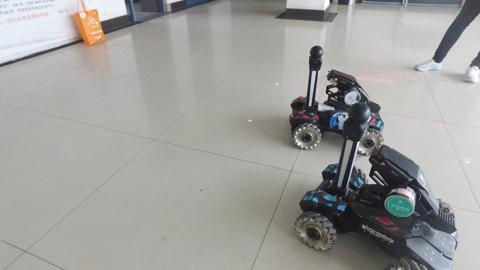chariot: (279, 100, 468, 270), (287, 43, 388, 156)
